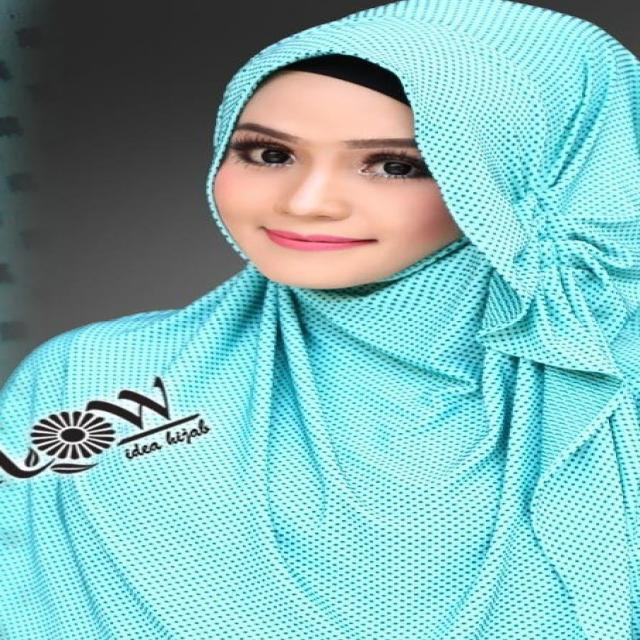head: (175, 1, 640, 304)
